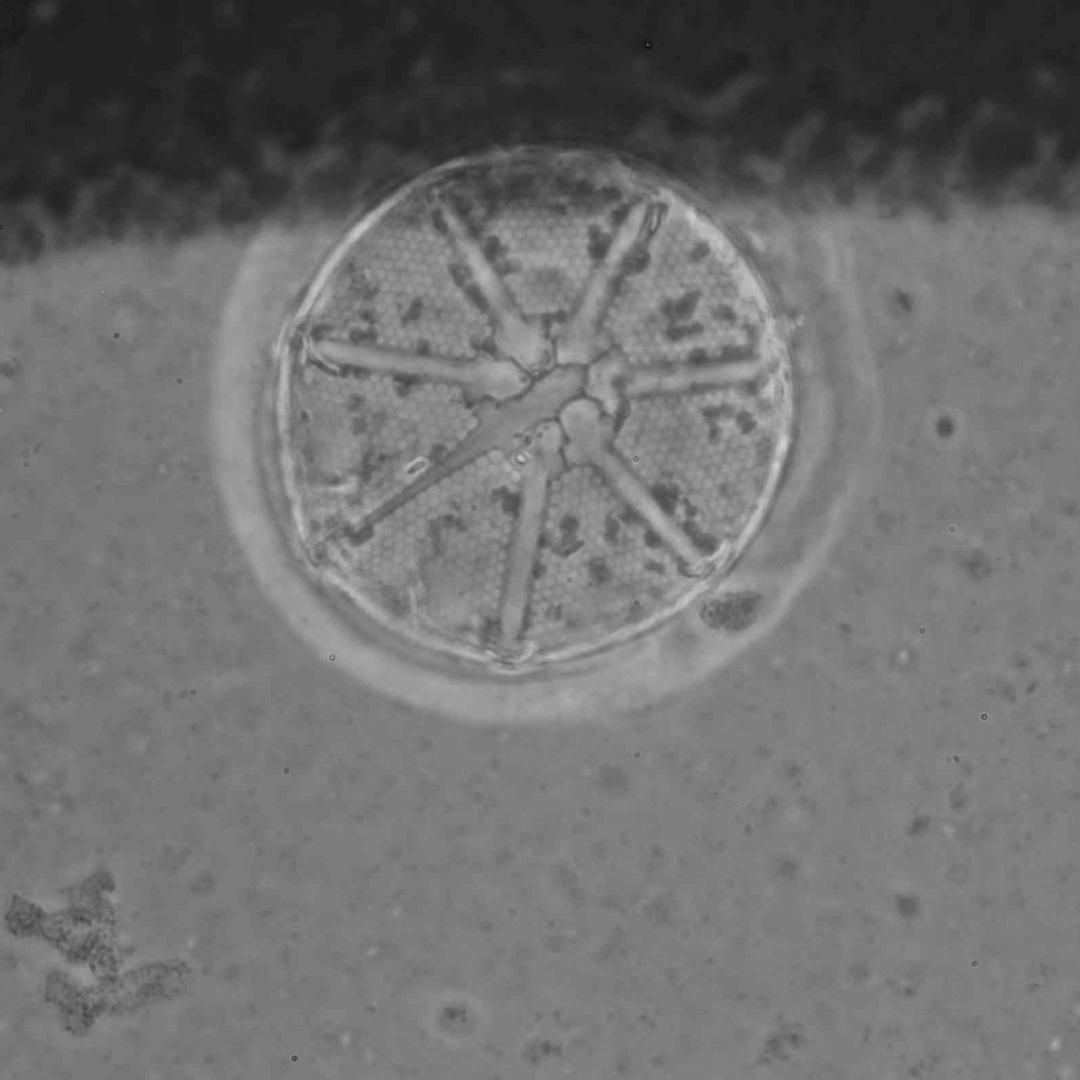asteromphalus_hyalinus: (285, 147, 791, 673)
